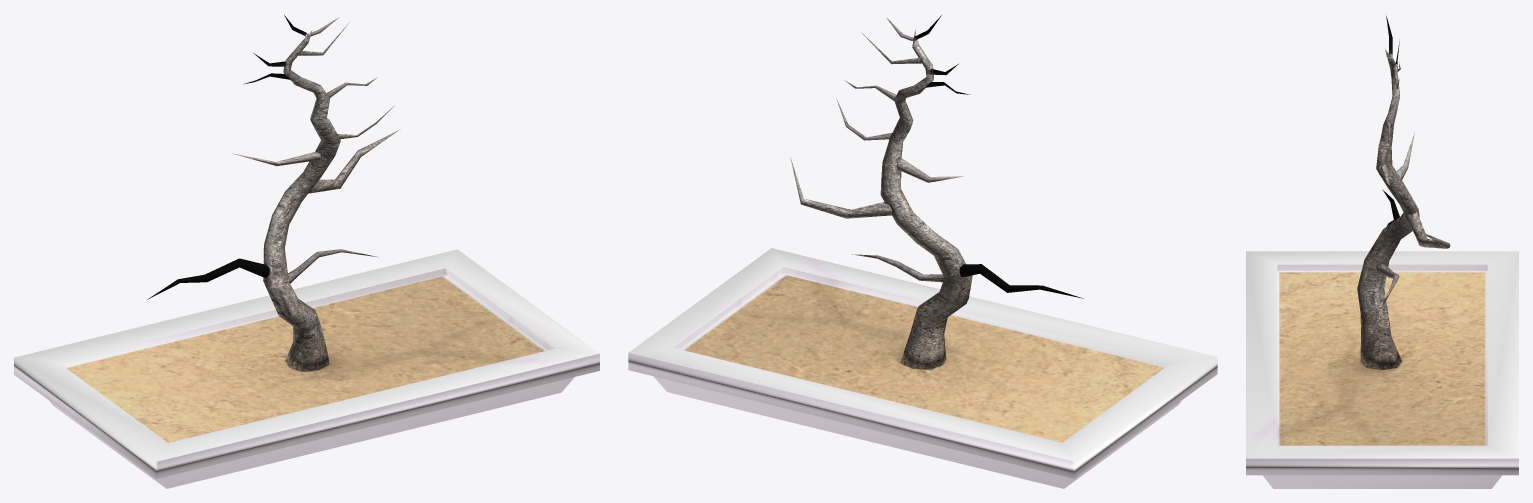
File: bonsai.glb
3 views of the same model, side by side, from view 1: azimuth 30°, elevation 25°; view 2: azimuth 150°, elevation 25°; view 3: azimuth 270°, elevation 25° (orthographic). The views are drawn at different scales.
Parts seen in each view (by area): view 1: Cube.001; view 2: Cube.001; view 3: Cube.001.
Part boxes in pixels (x1,y1,x2,y2): Cube.001: (14, 15, 599, 488); Cube.001: (628, 15, 1217, 488); Cube.001: (1246, 16, 1518, 488).
Bounding box in the file's own units: 13.51 × 11.33 × 7.51.
Materials: 1 (1 with a texture image).
